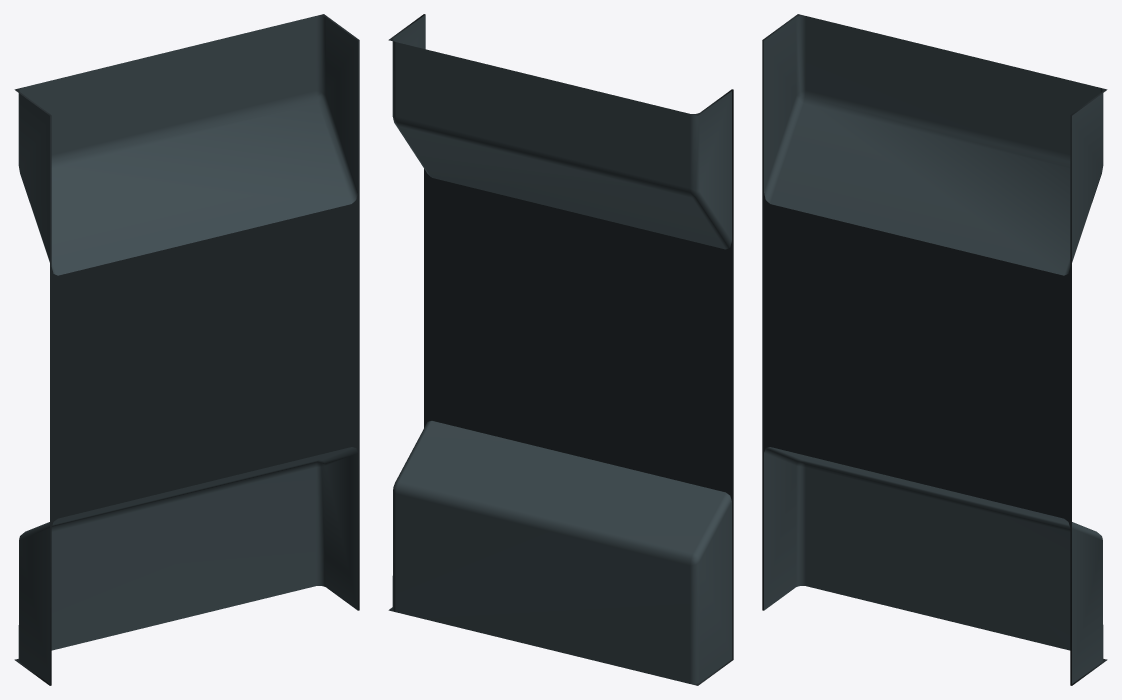
Rendered from wallSmall01.fbx.
The picture shows the model from 3 angles, left to right: view 1: azimuth 30°, elevation 25°; view 2: azimuth 150°, elevation 25°; view 3: azimuth 330°, elevation 25°; orthographic projection.
Visible parts, largest first — view 1: wallSmall01; view 2: wallSmall01; view 3: wallSmall01.
Part boxes in pixels (bbox=[...]): wallSmall01: bbox=[14, 14, 359, 685]; wallSmall01: bbox=[388, 14, 733, 685]; wallSmall01: bbox=[762, 14, 1107, 685].
Bounding box in the file's own units: 2 × 0.4 × 3.52.
